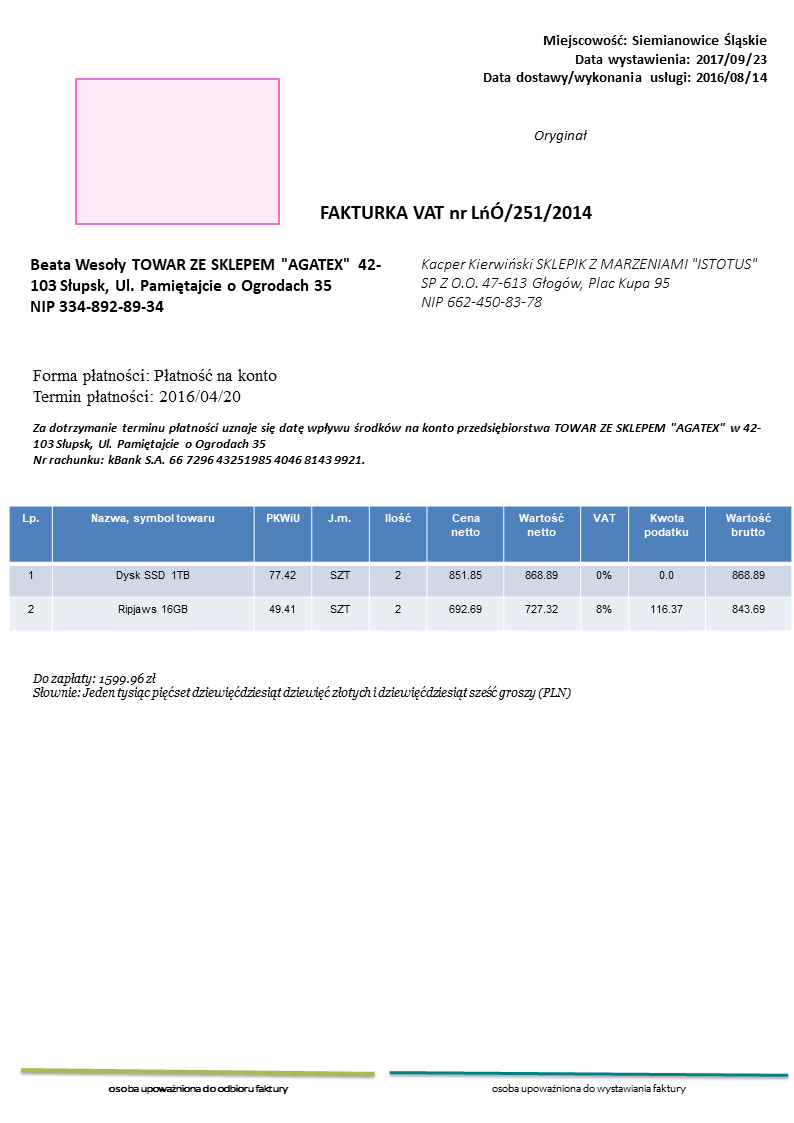Table: (7, 504, 794, 630)
TextBox: (30, 421, 763, 467), (25, 254, 385, 318), (417, 254, 762, 313), (30, 670, 574, 702), (478, 30, 772, 89), (29, 365, 279, 411), (317, 200, 593, 225), (488, 1079, 687, 1099), (106, 1081, 289, 1098), (532, 127, 589, 144)
